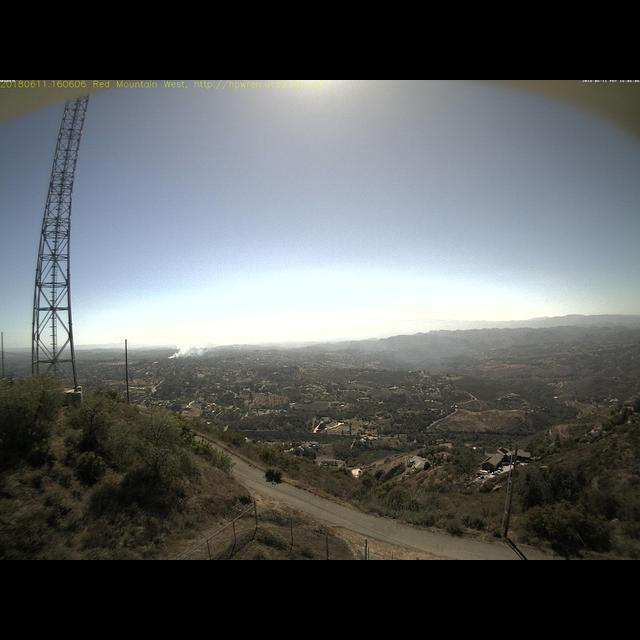Smoke: (164, 334, 211, 359)
